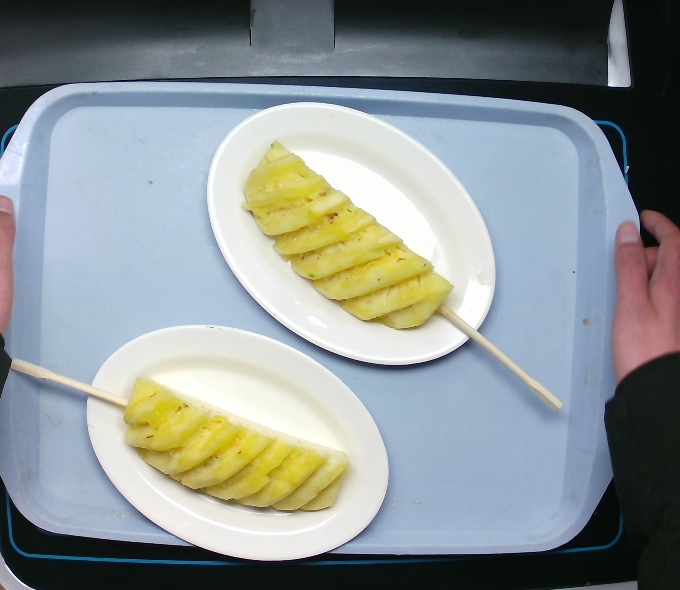wcq-BoLuo: (237, 135, 460, 333), (120, 368, 353, 518)
